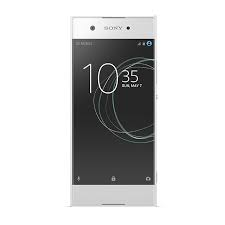sony: (71, 14, 160, 208)
